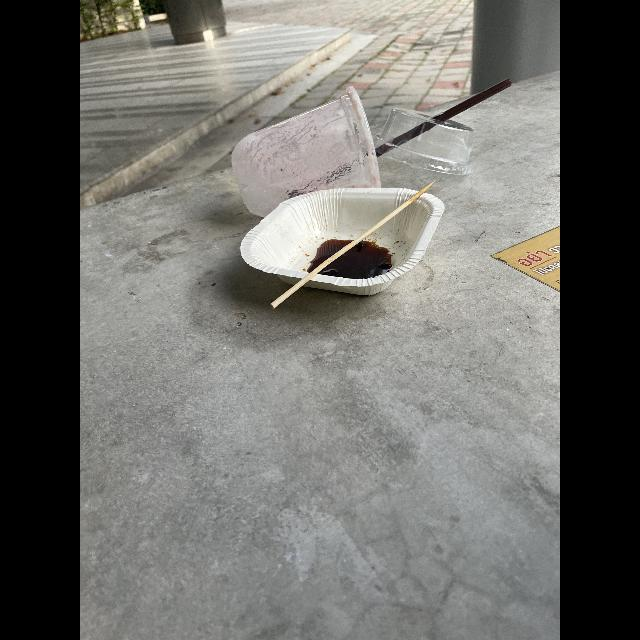cardboard_bowl: (239, 182, 446, 300)
plastic_cup: (222, 89, 392, 219)
stick: (267, 178, 435, 310)
straw: (374, 72, 520, 154)
